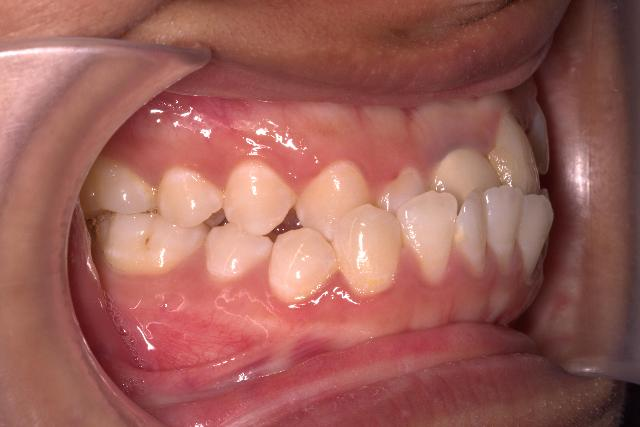canine class I: (267, 150, 405, 320)
molar class III 1/2: (75, 160, 207, 278)
